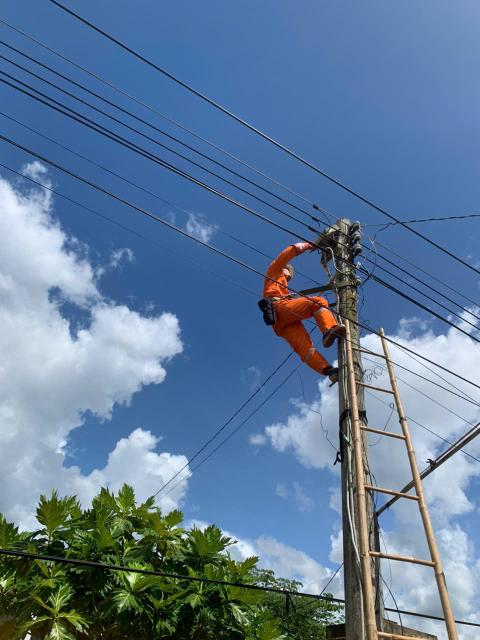gloves: (289, 236, 318, 256)
harness: (263, 292, 317, 303)
helmet: (278, 260, 298, 279)
shoes: (321, 321, 351, 351), (321, 362, 344, 383)
